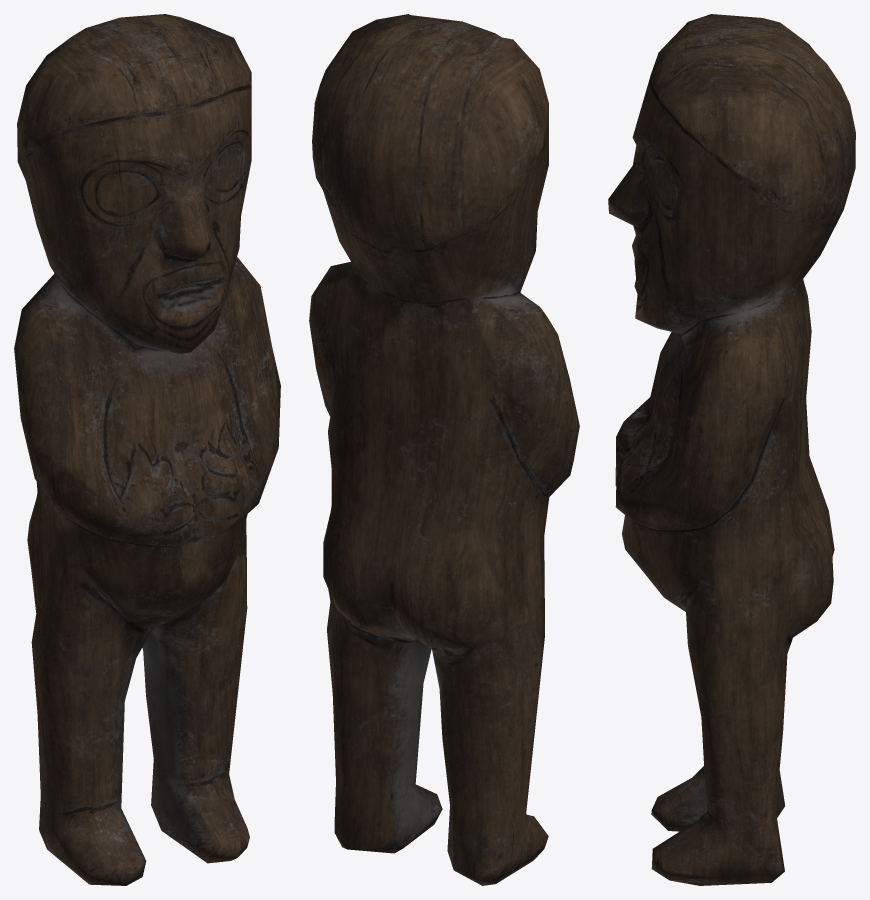
Rendered from SM_SmallTotem.fbx.
3 renders of one model, left to right at view 1: azimuth 30°, elevation 25°; view 2: azimuth 150°, elevation 25°; view 3: azimuth 270°, elevation 25°, orthographic.
Visible parts, largest first — view 1: SM_SmallTotem_LOD0; view 2: SM_SmallTotem_LOD0; view 3: SM_SmallTotem_LOD0.
Part boxes in pixels (x1,y1,x2,y2): SM_SmallTotem_LOD0: (14,14,280,885); SM_SmallTotem_LOD0: (309,14,579,885); SM_SmallTotem_LOD0: (608,14,855,885).
Bounding box in the file's own units: 17.62 × 15.37 × 56.1.
